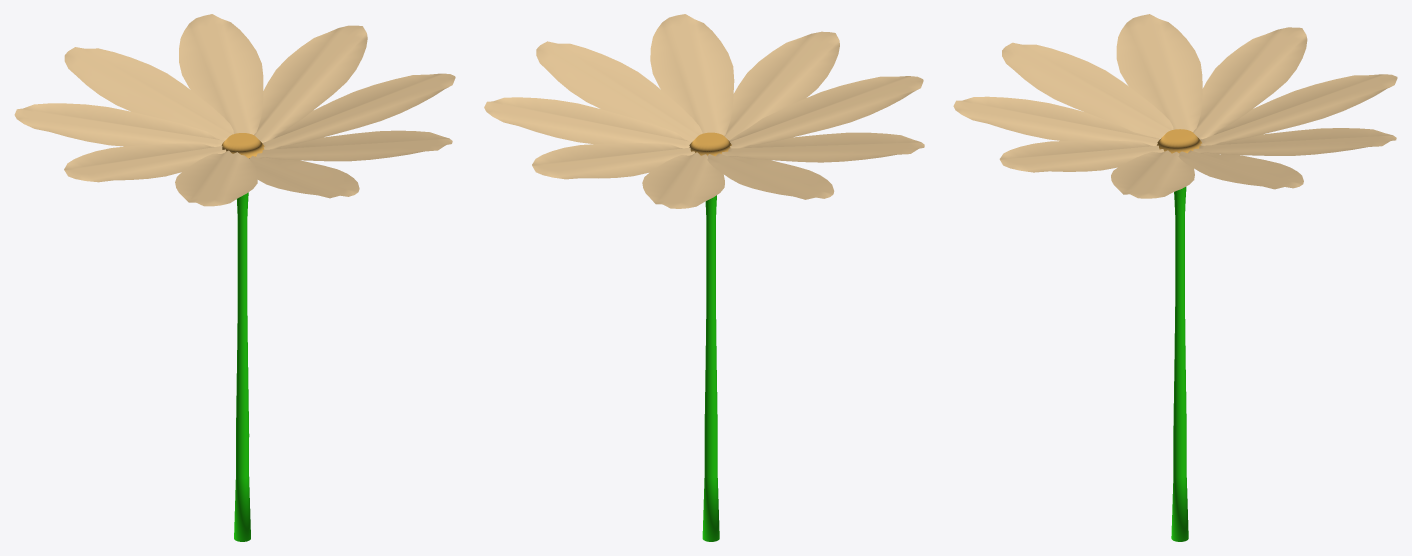
The model's file is Flower_Round_White.fbx.
3 views of the same model, side by side, from view 1: azimuth 30°, elevation 25°; view 2: azimuth 150°, elevation 25°; view 3: azimuth 270°, elevation 25° (orthographic).
Visible parts, largest first — view 1: petals, Circle.001, Circle.002; view 2: petals, Circle.001, Circle.002; view 3: petals, Circle.001, Circle.002.
Boxes of the visible parts, <box> form: petals: <box>14,14,455,206</box>; Circle.001: <box>234,192,250,541</box>; Circle.002: <box>221,133,264,158</box>; petals: <box>484,14,924,208</box>; Circle.001: <box>702,195,719,541</box>; Circle.002: <box>689,132,731,156</box>; petals: <box>953,14,1397,198</box>; Circle.001: <box>1171,187,1188,541</box>; Circle.002: <box>1157,129,1201,153</box>.
Bounding box in the file's own units: 461 × 494 × 456.
